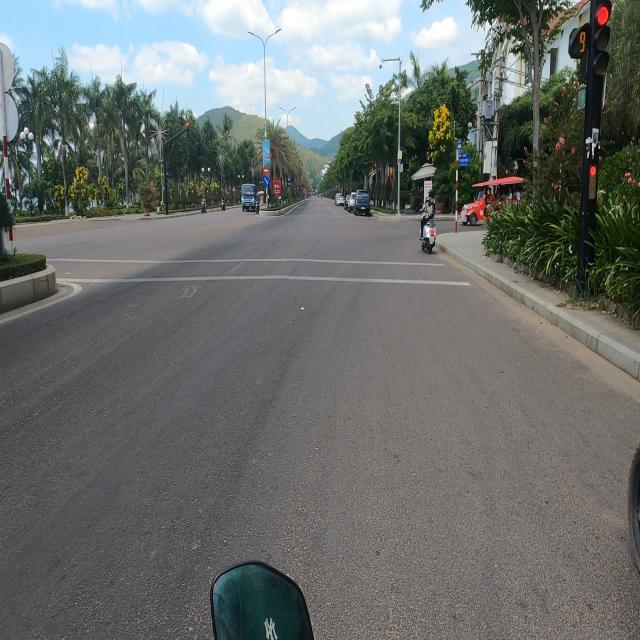walk-crossing: (70, 249, 475, 290), (472, 392, 476, 393)
